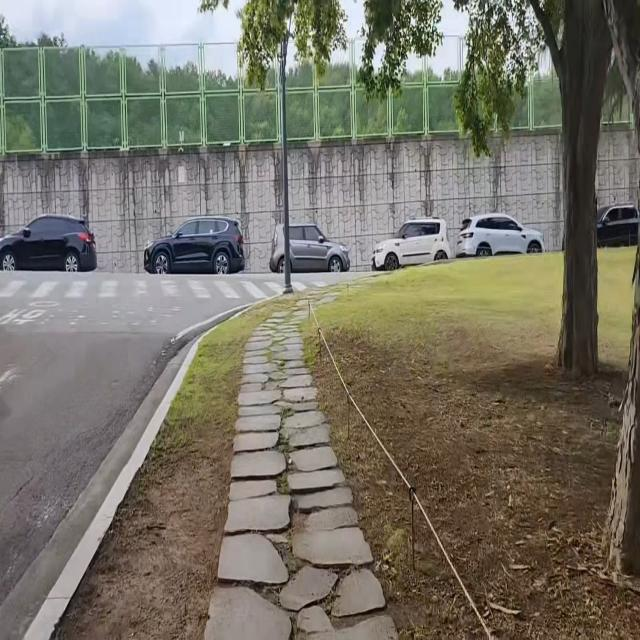obstacle: (138, 213, 250, 280), (0, 204, 98, 277), (452, 204, 553, 264), (368, 207, 453, 277), (266, 219, 352, 283)
road: (0, 273, 370, 640)
